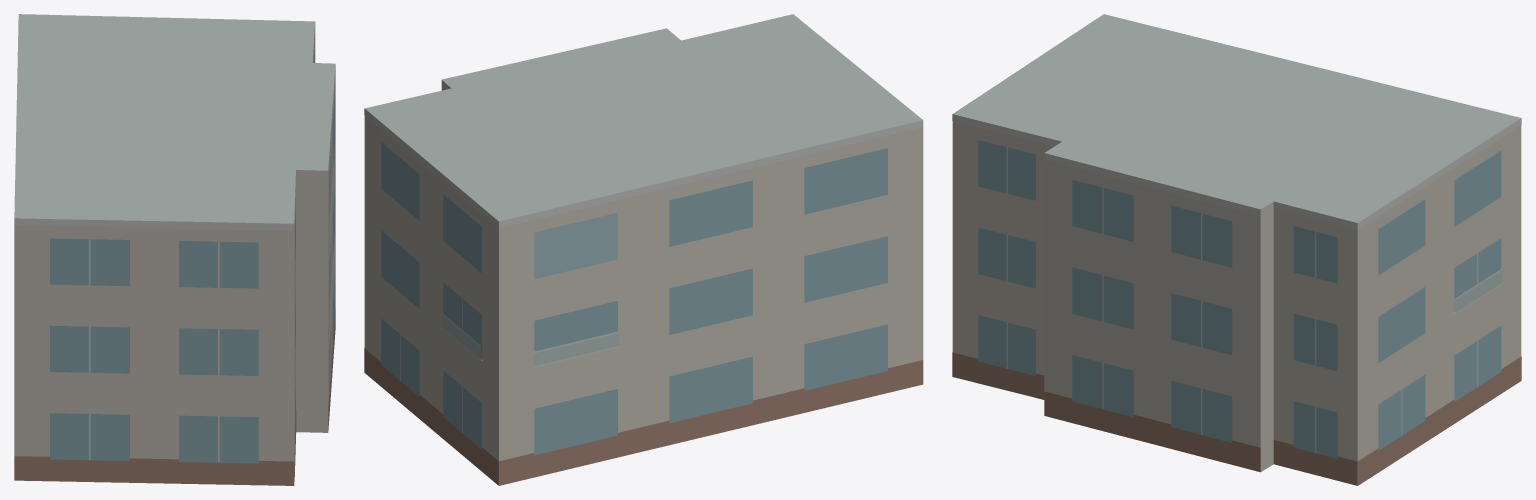
The model's file is survey-upis-33004008.glb.
3 views of the same model, side by side, from view 1: azimuth 30°, elevation 25°; view 2: azimuth 150°, elevation 25°; view 3: azimuth 270°, elevation 25° (orthographic).
Visible parts, largest first — view 1: survey-upis-33004008.tmp; view 2: survey-upis-33004008.tmp; view 3: survey-upis-33004008.tmp.
Part boxes in pixels (x1,y1,x2,y2): survey-upis-33004008.tmp: (14,14,335,485); survey-upis-33004008.tmp: (364,14,923,485); survey-upis-33004008.tmp: (952,14,1521,485).
Size of the model in its own units: 15.62 by 9.15 by 17.96.
